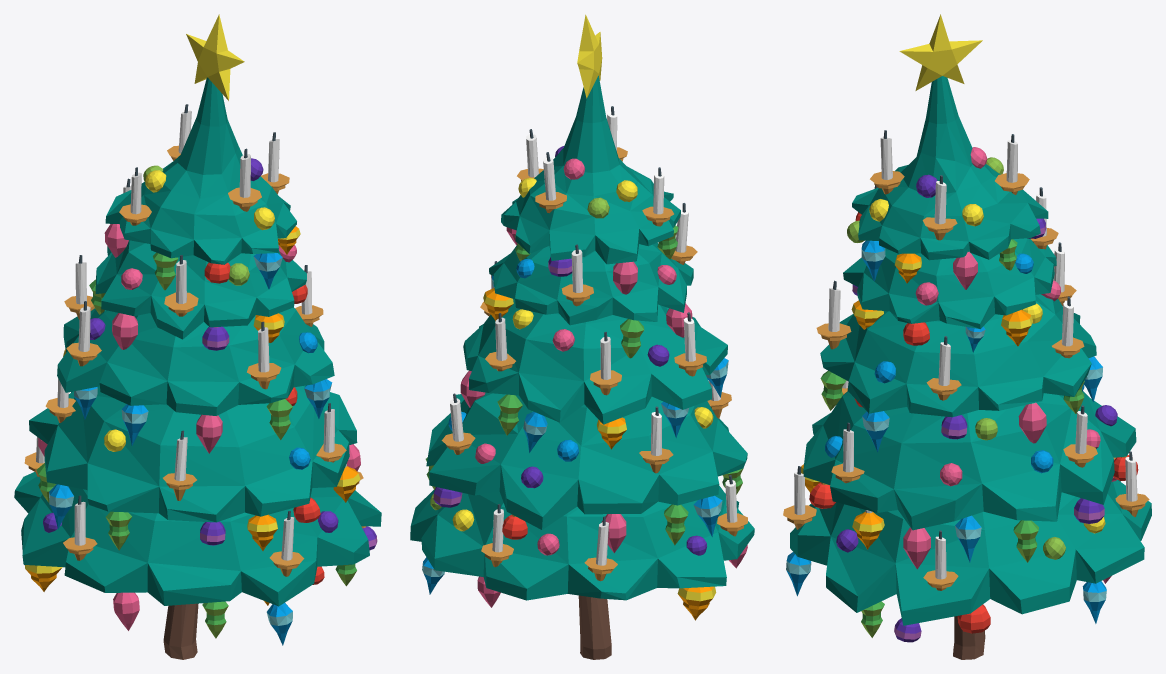
The model's file is tree-ed.glb.
3 views of the same model, side by side, from view 1: azimuth 30°, elevation 25°; view 2: azimuth 150°, elevation 25°; view 3: azimuth 270°, elevation 25° (orthographic). The views are drawn at different scales.
Parts seen in each view (by area): view 1: group1356770401, group1533398606; view 2: group1356770401, group1533398606; view 3: group1356770401, group1533398606.
Part boxes in pixels (x1,y1,x2,y2): group1356770401: (14,77,381,659); group1533398606: (186,14,244,100); group1356770401: (410,75,754,659); group1533398606: (577,14,602,98); group1356770401: (783,76,1151,659); group1533398606: (899,14,982,90).
Bounding box in the file's own units: 2.53 × 4.95 × 2.54.
